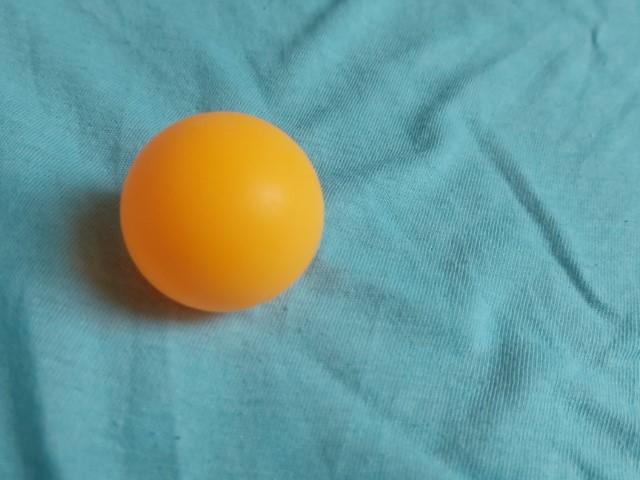oball: (115, 106, 328, 317)
